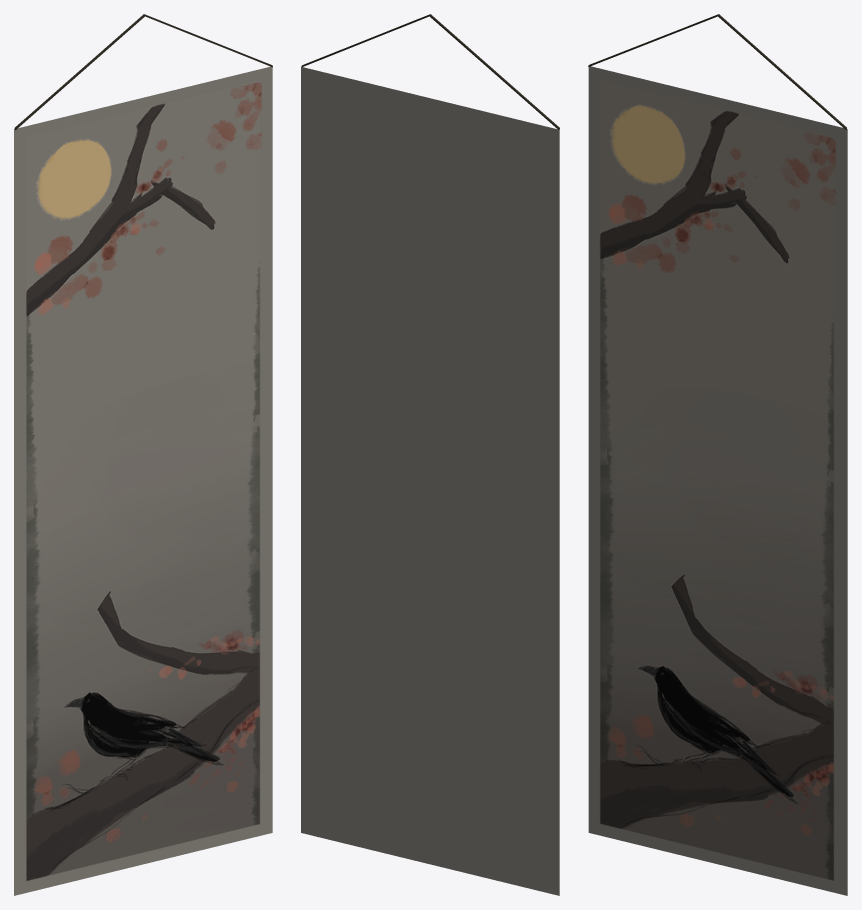
The model's file is ukiyoe_Decor_Tapestry_Bird.fbx.
3 views of the same model, side by side, from view 1: azimuth 30°, elevation 25°; view 2: azimuth 150°, elevation 25°; view 3: azimuth 330°, elevation 25° (orthographic).
Parts seen in each view (by area): view 1: tapestry_Bird; view 2: tapestry_Bird; view 3: tapestry_Bird.
Boxes of the visible parts, x1,y1,x2,y2 form: tapestry_Bird: (14,14,272,895); tapestry_Bird: (301,14,559,895); tapestry_Bird: (588,14,847,895).
Size of the model in its own units: 54.51 by 171 by 0.4016.
